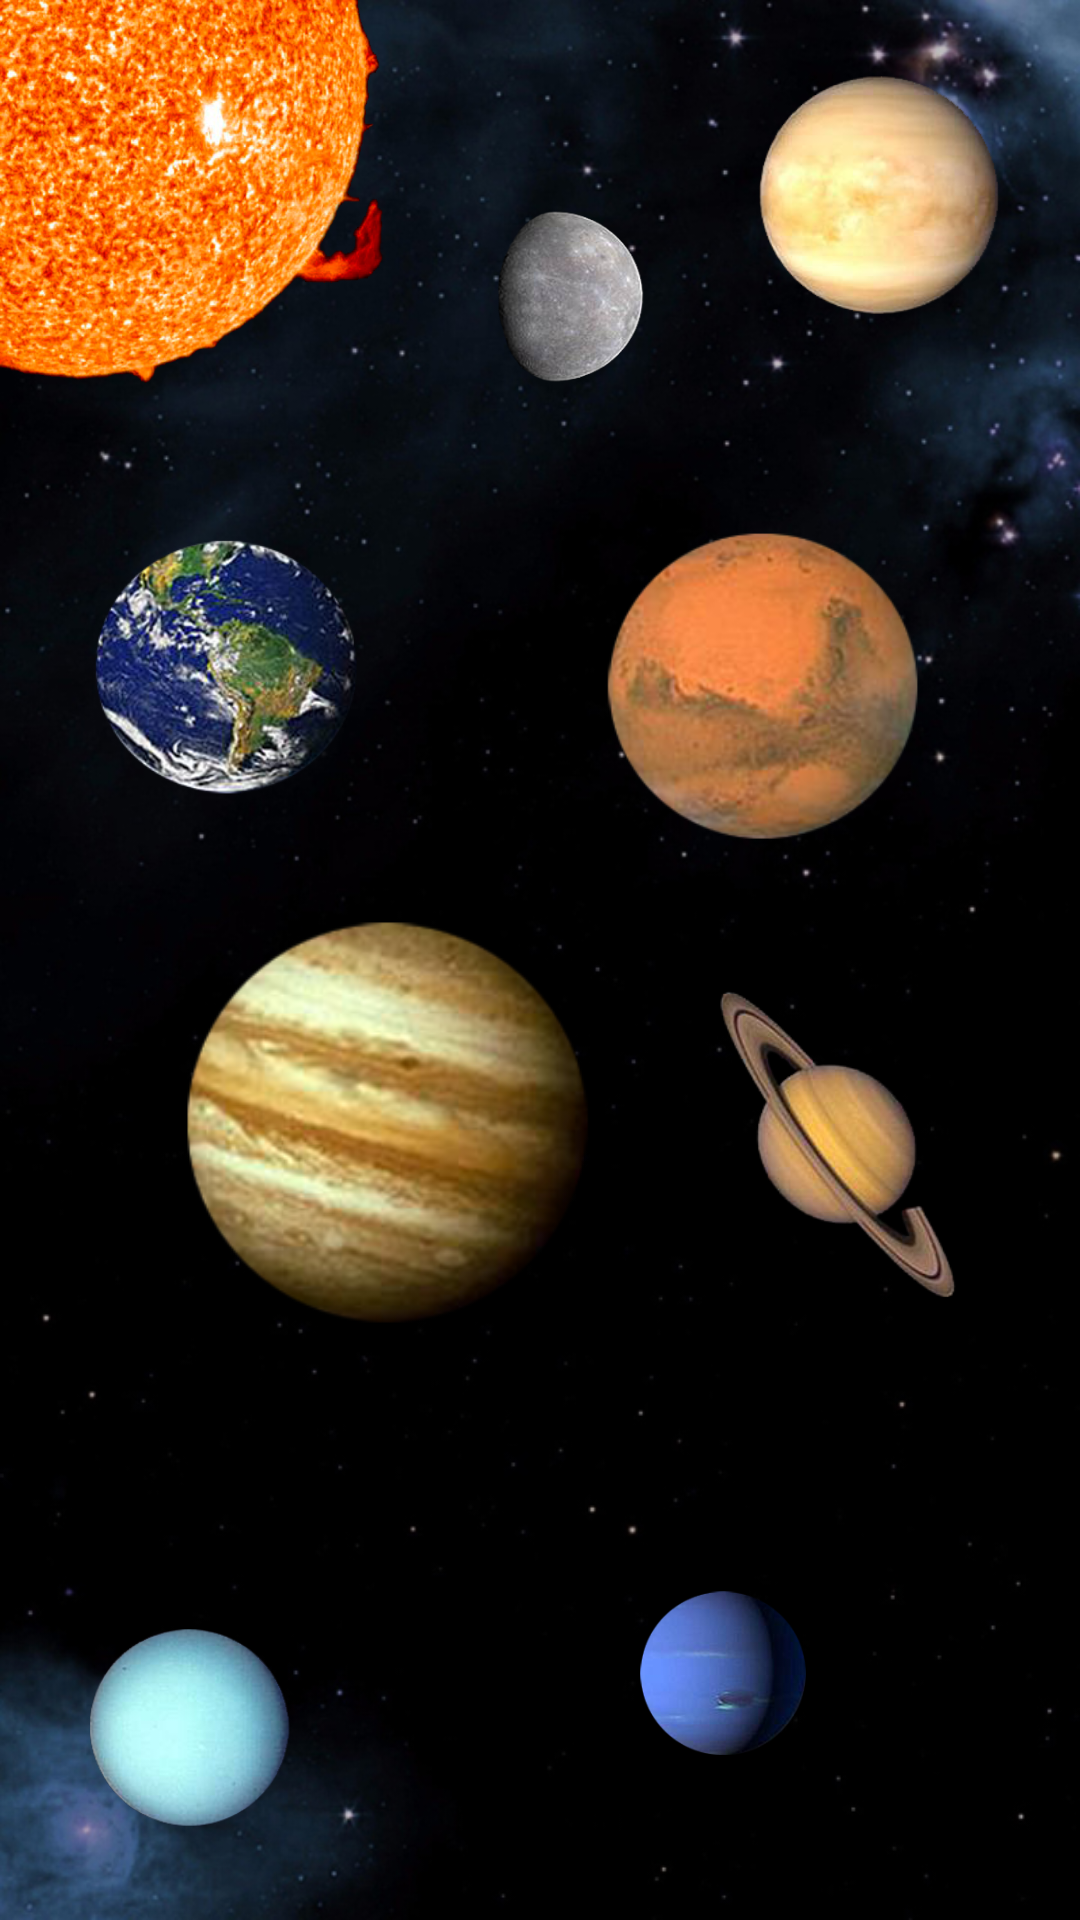

Named icons in this screenshot (1080w x 1920h) and their centers, point (x, y):
earth: point (231, 665)
mars: point (771, 687)
mercury: point (558, 296)
neptune: point (723, 1673)
saturn: point (836, 1143)
uranus: point (192, 1728)
venus: point (879, 195)
